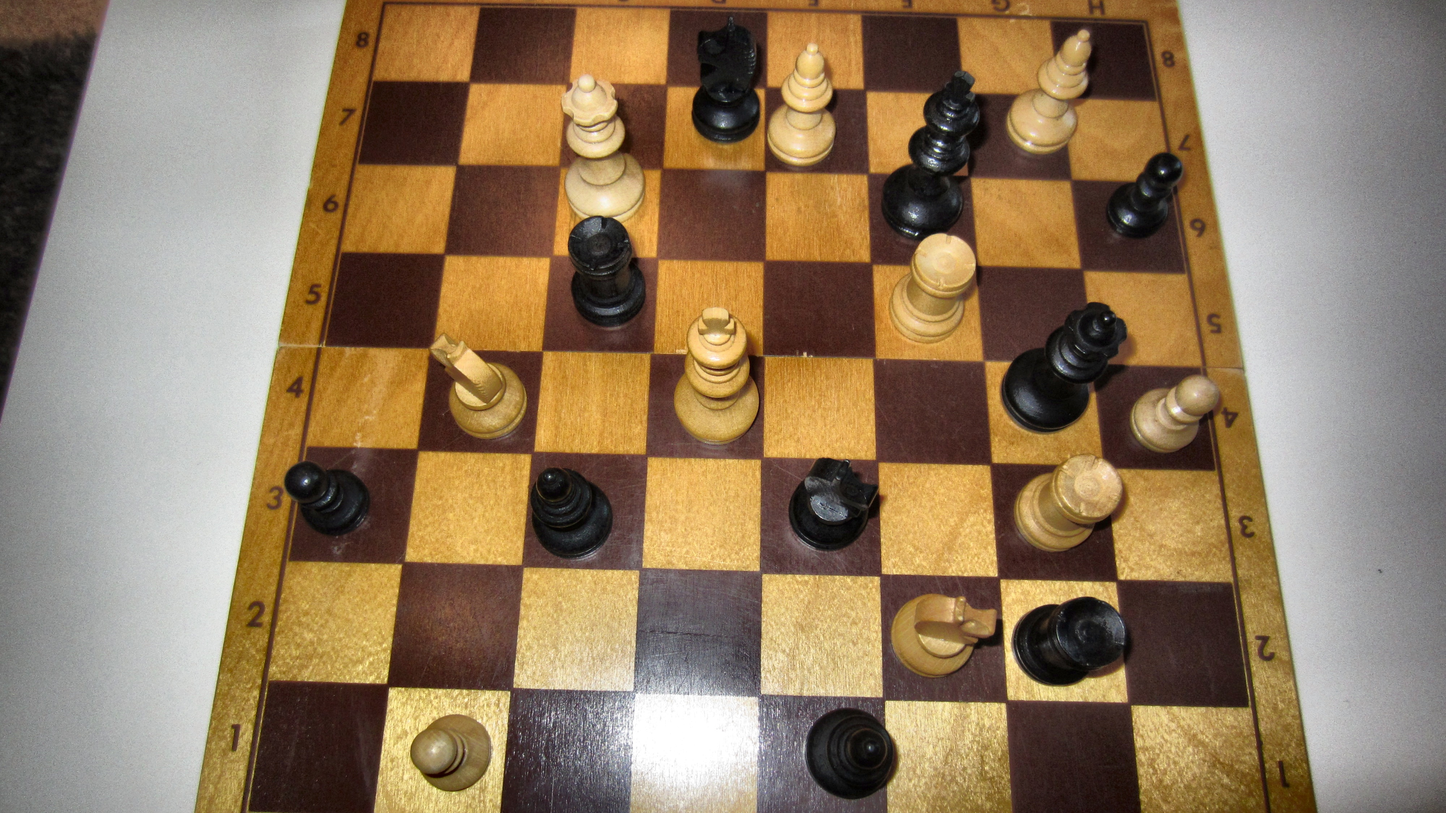black-bishop: (804, 707, 896, 801), (530, 466, 613, 559)
black-king: (880, 69, 981, 242)
black-knight: (690, 16, 763, 144), (787, 457, 880, 552)
black-pawn: (1105, 150, 1184, 239), (283, 459, 371, 537)
black-queen: (998, 300, 1128, 433)
black-rook: (1010, 595, 1128, 688), (566, 216, 647, 327)
white-bishop: (1004, 28, 1092, 154), (766, 42, 837, 167)
white-king: (673, 306, 760, 446)
white-knight: (428, 332, 528, 439), (890, 593, 998, 678)
white-pawn: (1128, 374, 1222, 453), (408, 713, 493, 793)
white-queen: (560, 75, 646, 224)
white-rook: (1012, 452, 1125, 554), (889, 232, 976, 344)
